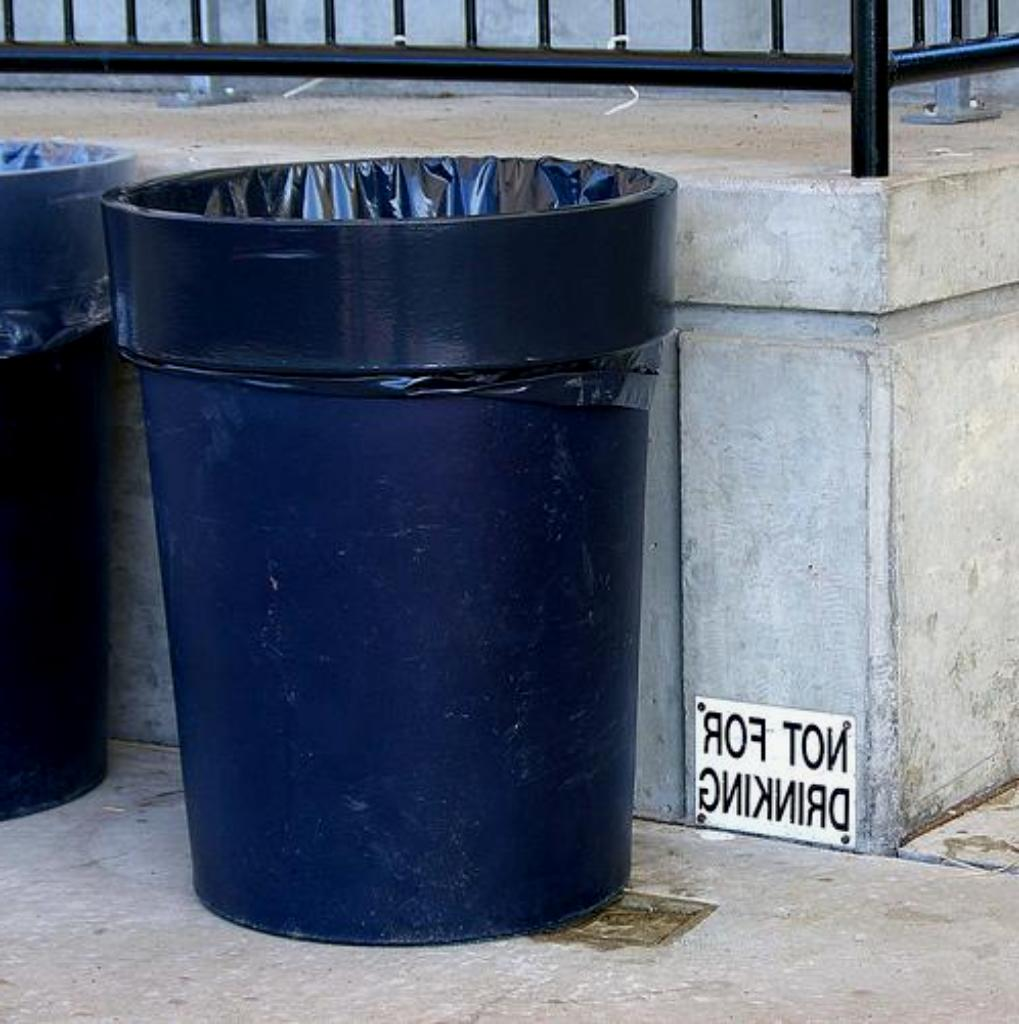dustbin: (88, 144, 701, 930)
